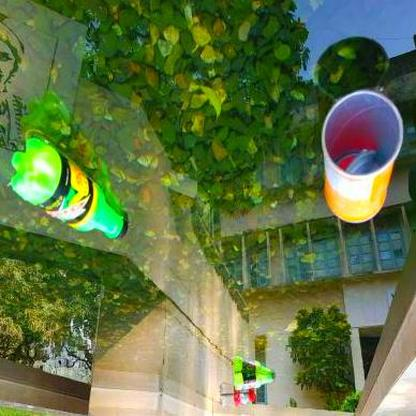plastic bottle: (10, 138, 128, 240), (231, 370, 277, 388), (217, 392, 258, 408)
